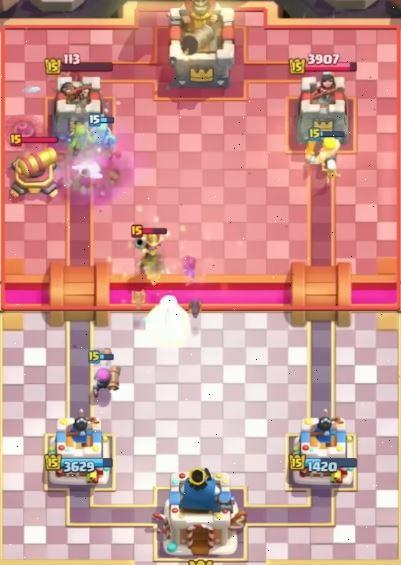EKingTower: (169, 0, 234, 87)
EMusk: (131, 224, 167, 277)
Ecan: (12, 140, 60, 199)
EnemyPrincessTower: (297, 72, 348, 138), (56, 71, 108, 122)
OBarb: (305, 128, 345, 164)
OBat: (188, 301, 201, 325)
OFirecrack: (88, 348, 120, 398)
OGoblin: (91, 115, 115, 149), (69, 122, 94, 154)
OLarry: (321, 158, 335, 177)
OwnKingTower: (165, 468, 238, 556)
OwnPrincessTower: (289, 415, 356, 486), (56, 416, 110, 484)
